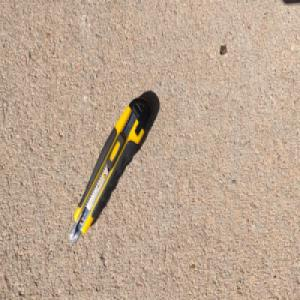Cutter: (68, 93, 153, 246)
